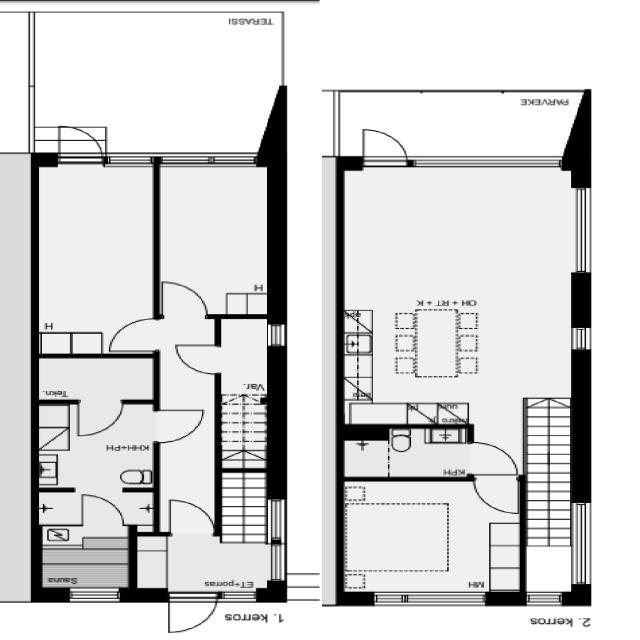door: (158, 592, 224, 634), (353, 124, 411, 168), (69, 398, 129, 440), (467, 473, 529, 513), (160, 277, 216, 320), (464, 438, 524, 476), (170, 340, 226, 380), (56, 122, 108, 164), (158, 406, 205, 451), (107, 311, 160, 350), (162, 501, 220, 536), (70, 493, 124, 526)
window: (565, 500, 597, 591), (106, 146, 254, 163), (413, 154, 577, 167), (361, 592, 498, 604), (573, 185, 590, 281), (262, 494, 284, 550), (518, 589, 575, 608), (64, 586, 124, 601), (265, 539, 285, 582), (568, 324, 596, 353)
zone: (340, 163, 577, 424), (36, 165, 160, 355), (341, 478, 514, 601), (150, 156, 277, 318), (32, 399, 158, 496), (130, 530, 273, 595), (32, 354, 157, 408)
